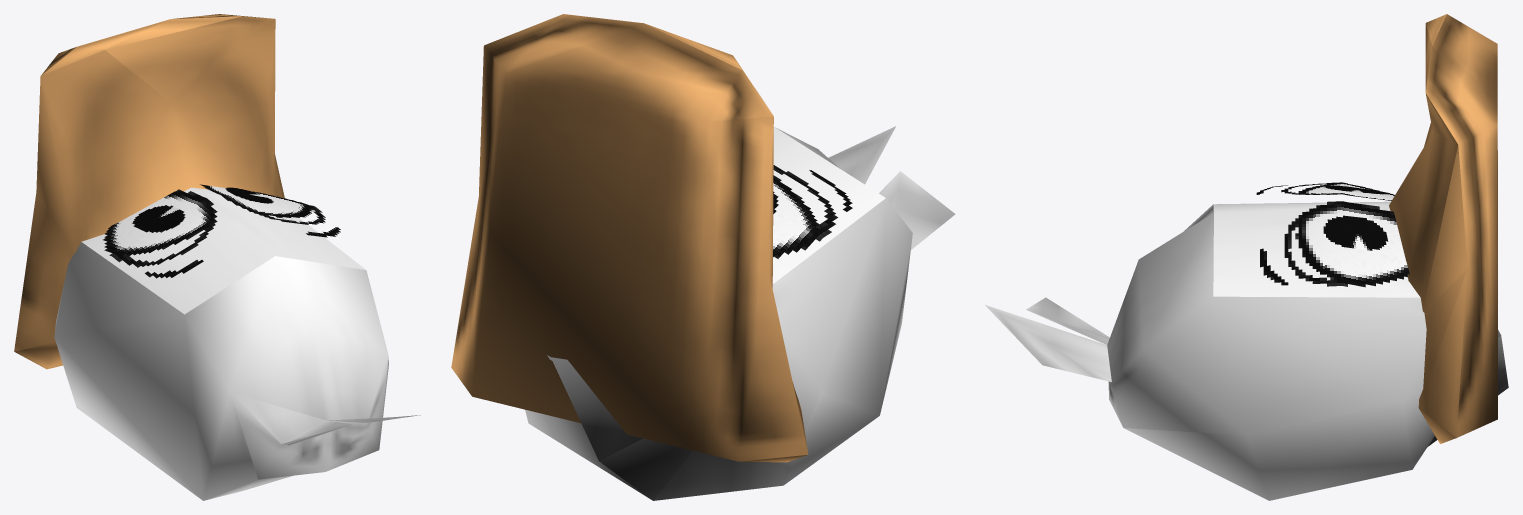
Rendered from fll_250.glb.
3 renders of one model, left to right at view 1: azimuth 30°, elevation 25°; view 2: azimuth 150°, elevation 25°; view 3: azimuth 270°, elevation 25°, orthographic. The views are drawn at different scales.
Visible parts, largest first — view 1: head-long, muzzle-long-neutral, head-front-long, eyes-long, joint_pupilL_long; view 2: muzzle-long-neutral, head-long, head-front-long, eyes-long; view 3: head-long, muzzle-long-neutral, head-front-long, eyes-long, joint_pupilR_long.
Boxes of the visible parts, <box> form: head-long: <box>54,242,420,500</box>; muzzle-long-neutral: <box>14,14,284,369</box>; head-front-long: <box>81,187,365,314</box>; eyes-long: <box>103,184,340,278</box>; joint_pupilL_long: <box>132,205,185,232</box>; muzzle-long-neutral: <box>451,14,808,462</box>; head-long: <box>525,126,955,500</box>; head-front-long: <box>772,127,885,283</box>; eyes-long: <box>773,165,852,258</box>; head-long: <box>985,204,1508,500</box>; muzzle-long-neutral: <box>1389,14,1497,443</box>; head-front-long: <box>1213,201,1420,297</box>; eyes-long: <box>1256,182,1409,287</box>; joint_pupilR_long: <box>1323,215,1388,250</box>.
Bounding box in the file's own units: 1.44 × 2 × 2.17.
5 materials, 5 textured.
